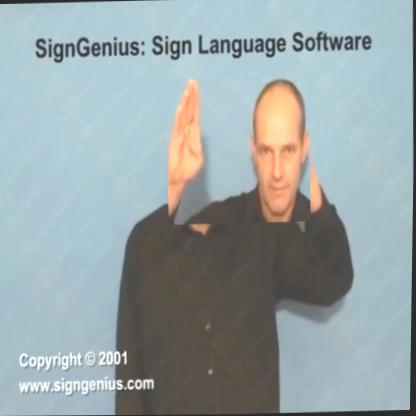Hello: (166, 75, 312, 225)
